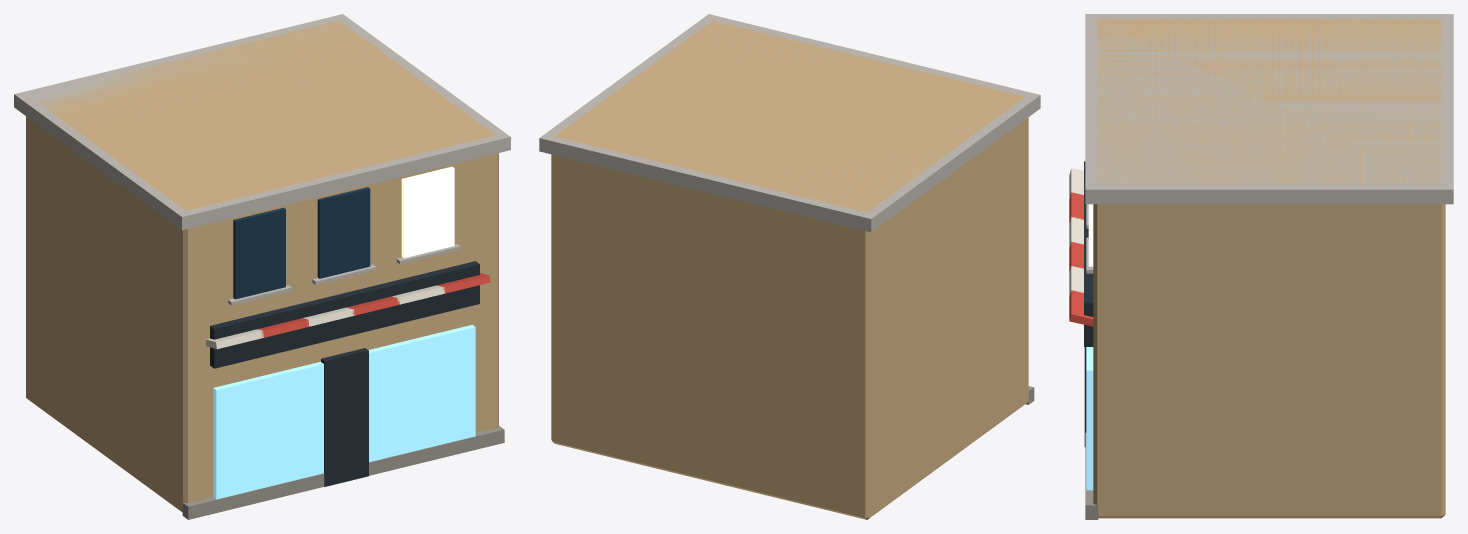
File: hd_bldg_shop.gltf
3 renders of one model, left to right at view 1: azimuth 30°, elevation 25°; view 2: azimuth 150°, elevation 25°; view 3: azimuth 270°, elevation 25°, orthographic. The views are drawn at different scales.
Visible parts, largest first — view 1: body, cornice, glassL, glassR, sign, door, win0_2, win0_1, win0_0, base, awn0; view 2: body, cornice; view 3: body, cornice, glassR, sign, awn5, base.
Part boxes in pixels (<box>): body: <box>26,20,498,512</box>; cornice: <box>14,14,510,230</box>; glassL: <box>213,361,323,499</box>; glassR: <box>368,324,475,462</box>; sign: <box>210,261,479,368</box>; door: <box>321,348,368,486</box>; win0_2: <box>401,166,454,258</box>; win0_1: <box>317,187,370,278</box>; win0_0: <box>233,207,285,299</box>; base: <box>182,426,504,519</box>; awn0: <box>206,329,263,349</box>; body: <box>551,20,1028,519</box>; cornice: <box>539,14,1040,232</box>; body: <box>1093,19,1445,518</box>; cornice: <box>1085,14,1453,204</box>; glassR: <box>1086,347,1093,490</box>; sign: <box>1084,161,1093,346</box>; awn5: <box>1069,290,1093,326</box>; base: <box>1085,432,1098,519</box>.
Size of the model in its own units: 5.2 by 4.6 by 4.8.
